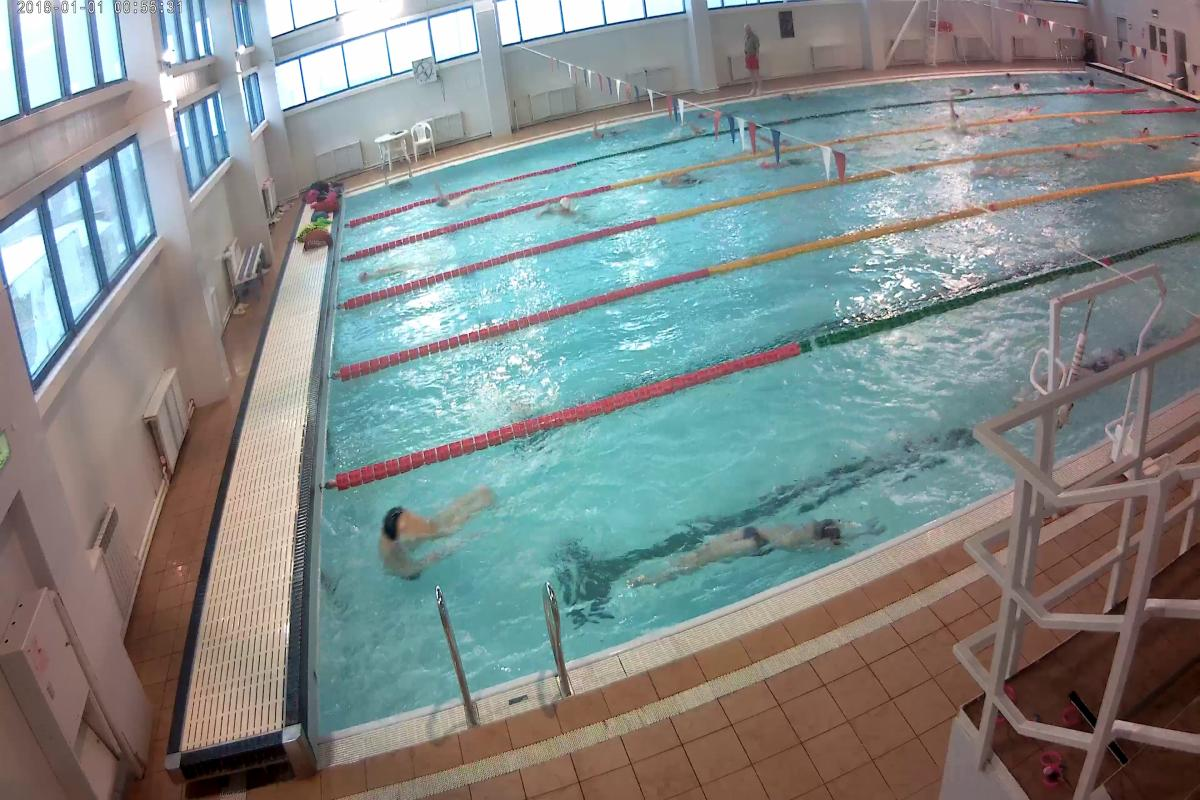swimmer: (644, 500, 864, 573), (365, 489, 496, 583), (338, 262, 407, 280), (541, 202, 602, 220)
